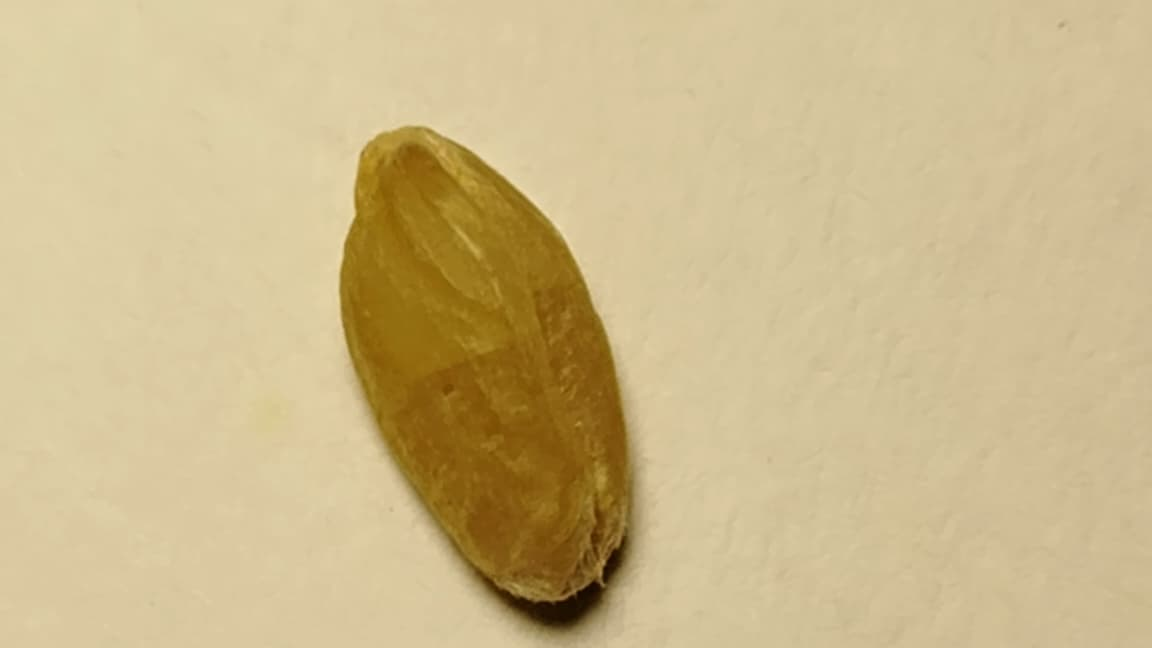healthy: (341, 126, 629, 600)
